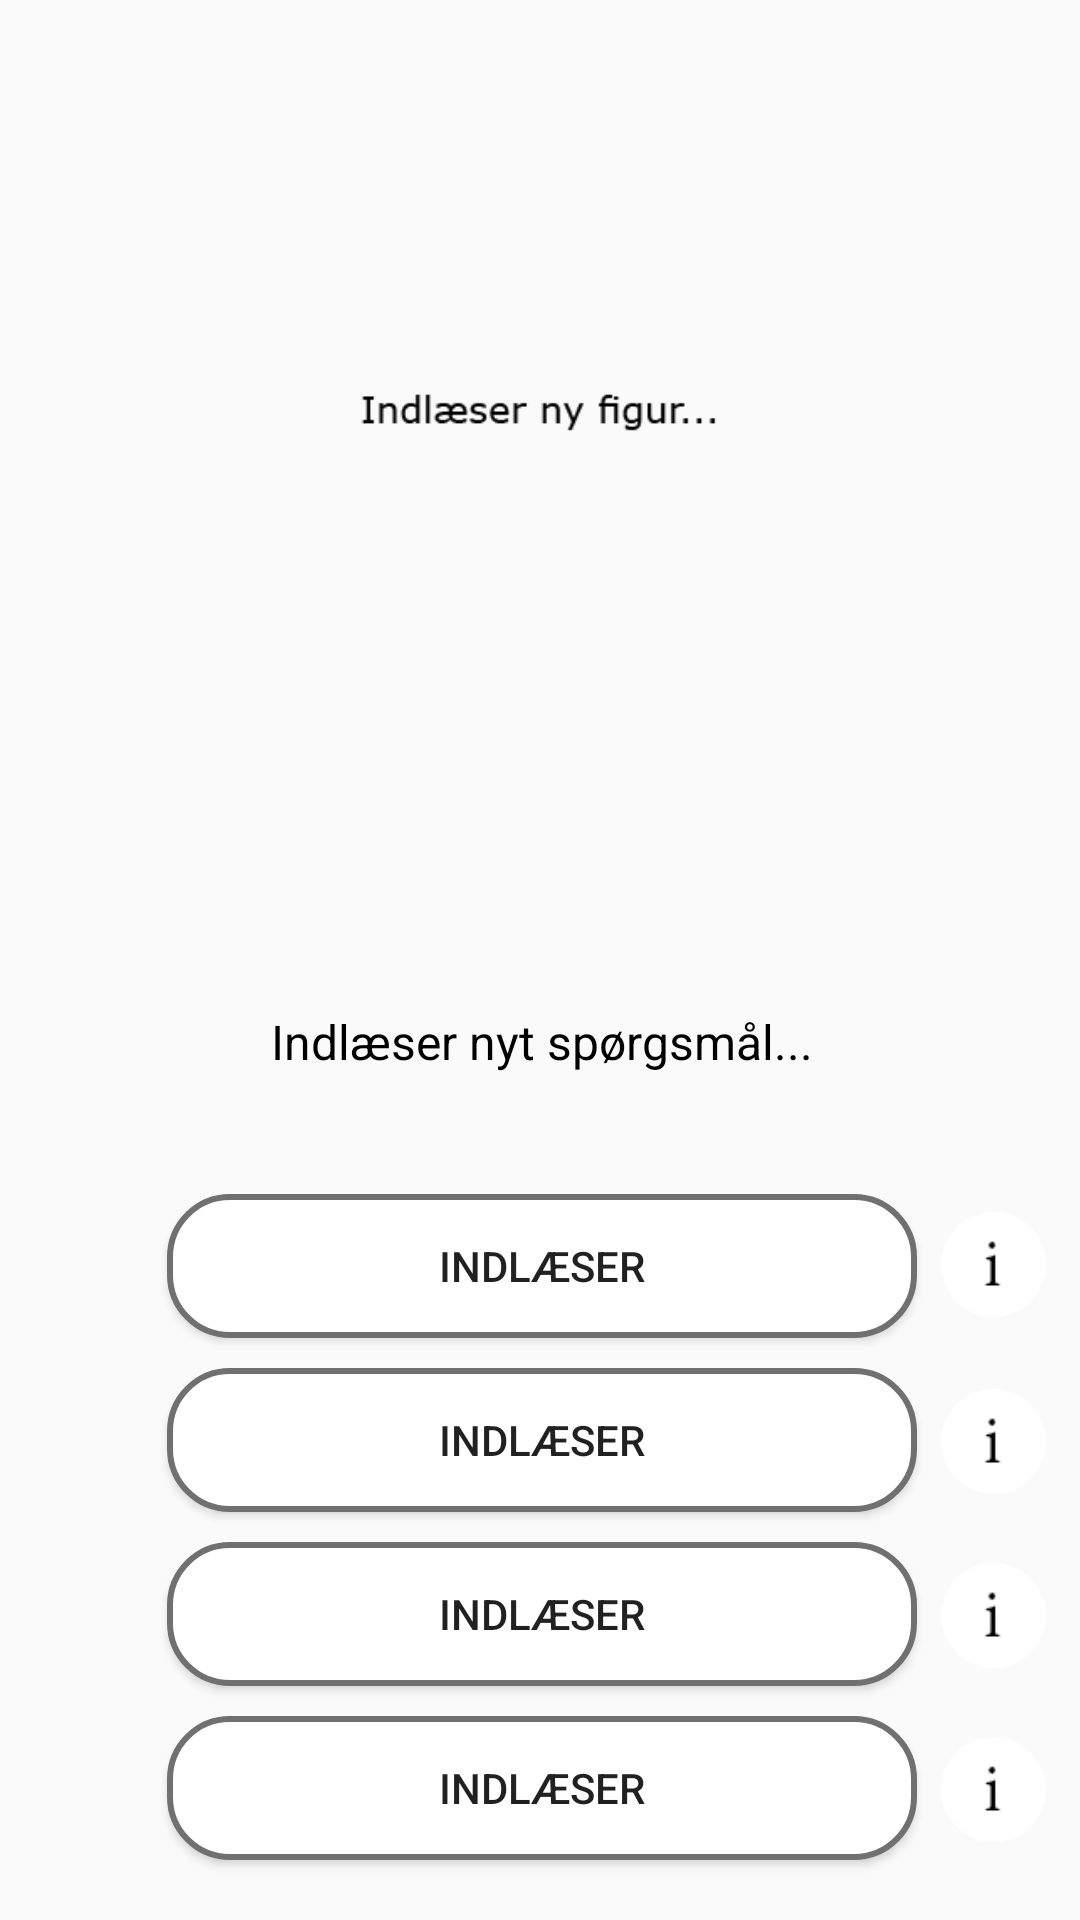

Named icons in this screenshot (1080x1920) and their centers, point (x, y):
info: point (992, 1263), point (993, 1440), point (993, 1614), point (993, 1788)
